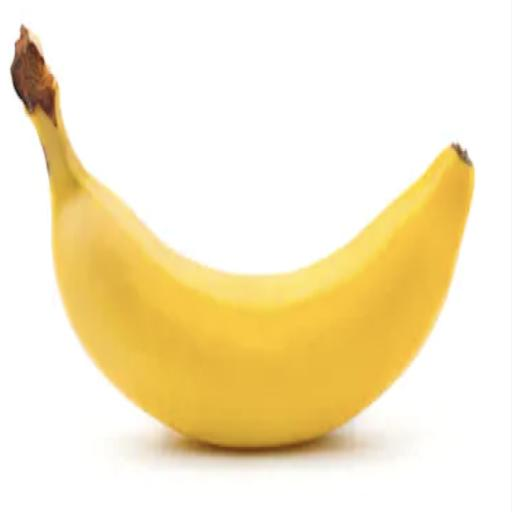banana: (12, 29, 473, 446)
